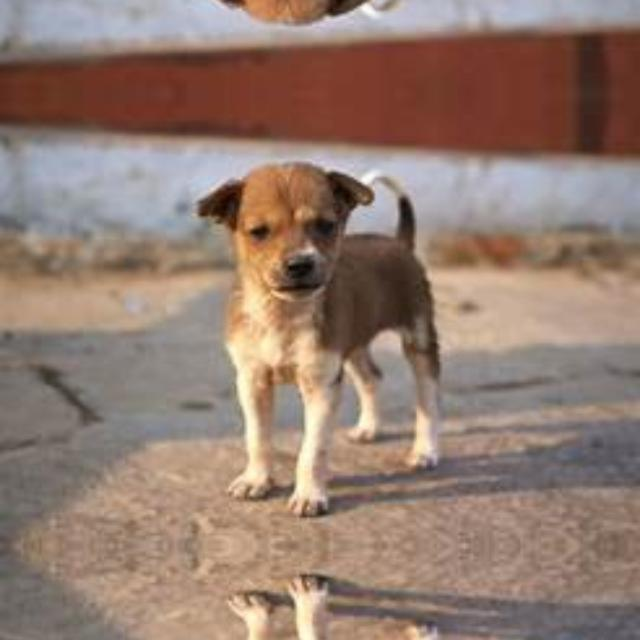dog: (170, 146, 510, 504), (170, 587, 510, 640), (170, 0, 510, 40)
